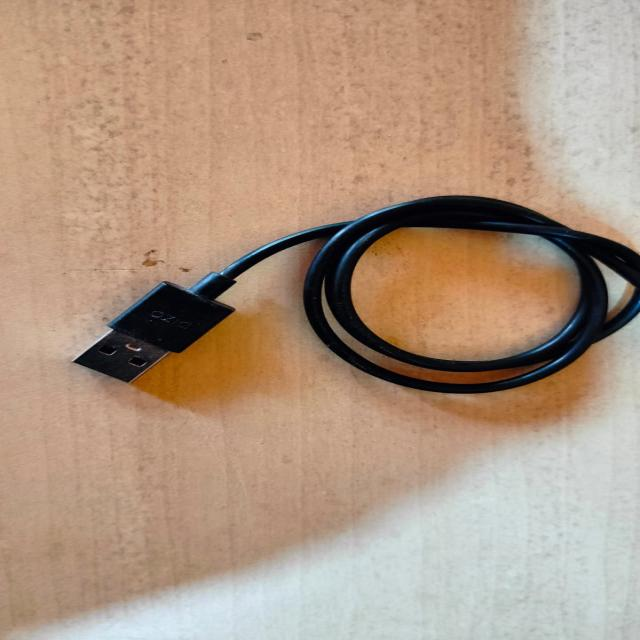cable: (83, 197, 640, 421)
